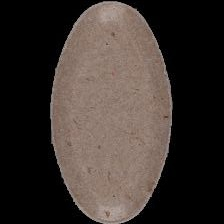54868-4871: (0, 0, 224, 224)
